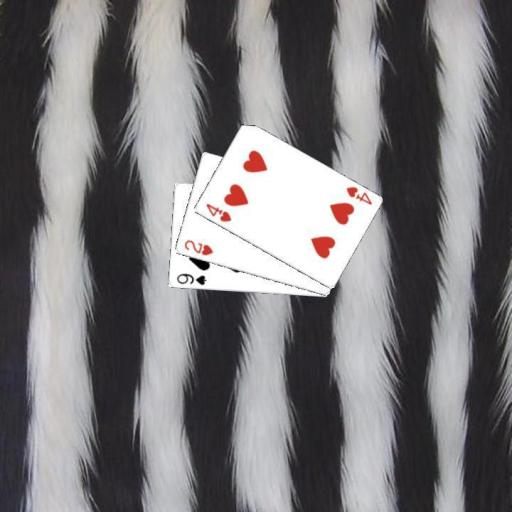card-corner: (202, 200, 232, 224), (180, 237, 214, 257), (343, 184, 373, 206), (174, 270, 208, 287)
